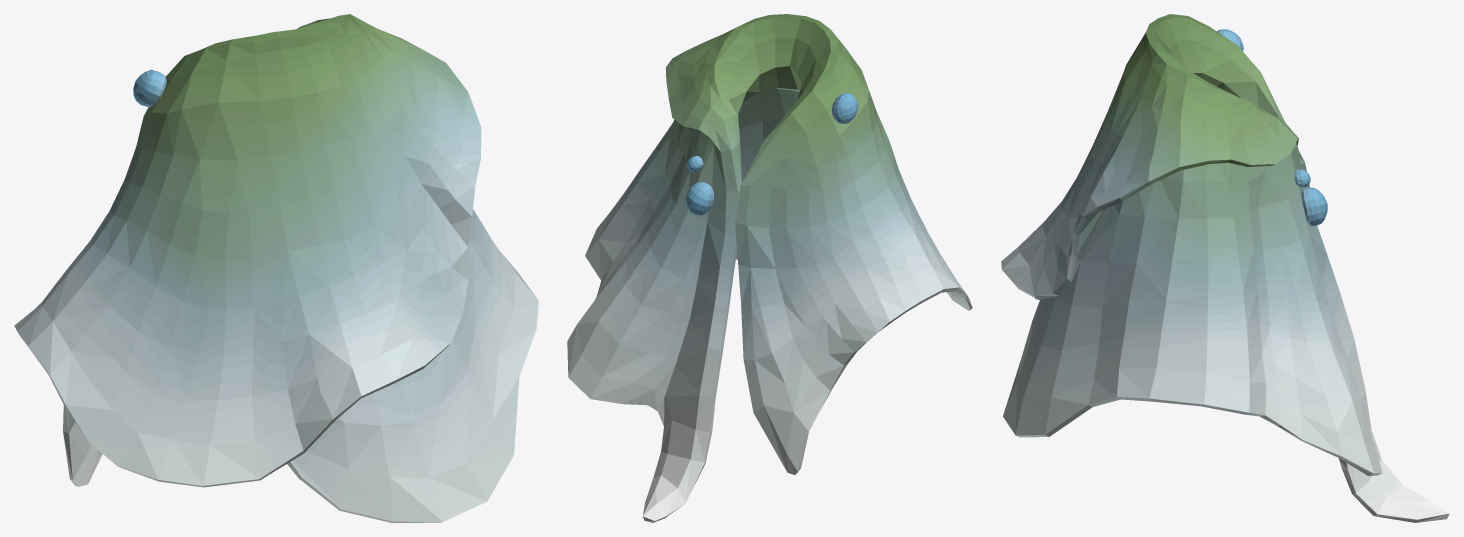
The model's file is CharSkyKid_Wing_CallaLily.glb.
3 views of the same model, side by side, from view 1: azimuth 30°, elevation 25°; view 2: azimuth 150°, elevation 25°; view 3: azimuth 270°, elevation 25° (orthographic). The views are drawn at different scales.
Visible parts, largest first — view 1: CharSkyKid_Wing_CallaLily; view 2: CharSkyKid_Wing_CallaLily; view 3: CharSkyKid_Wing_CallaLily.
Part boxes in pixels (x1,y1,x2,y2): CharSkyKid_Wing_CallaLily: [14, 14, 538, 522]; CharSkyKid_Wing_CallaLily: [567, 14, 972, 522]; CharSkyKid_Wing_CallaLily: [1001, 14, 1449, 522].
Bounding box in the file's own units: 7.3 × 8.27 × 7.09.
1 material, 1 textured.
